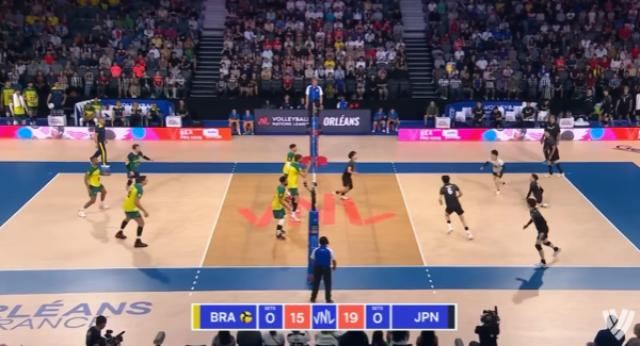Levantador: (333, 148, 365, 208), (268, 172, 294, 239)
Libero: (472, 142, 518, 190), (118, 136, 152, 186)
bola: (444, 58, 456, 80)
